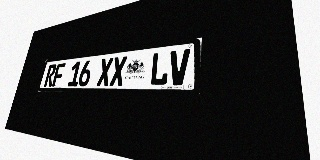1: (67, 61, 82, 86)
6: (77, 60, 93, 86)
F: (52, 63, 66, 87)
L: (149, 51, 170, 86)
R: (44, 64, 57, 87)
V: (168, 49, 190, 85)
X: (109, 56, 127, 86), (96, 57, 113, 86)
